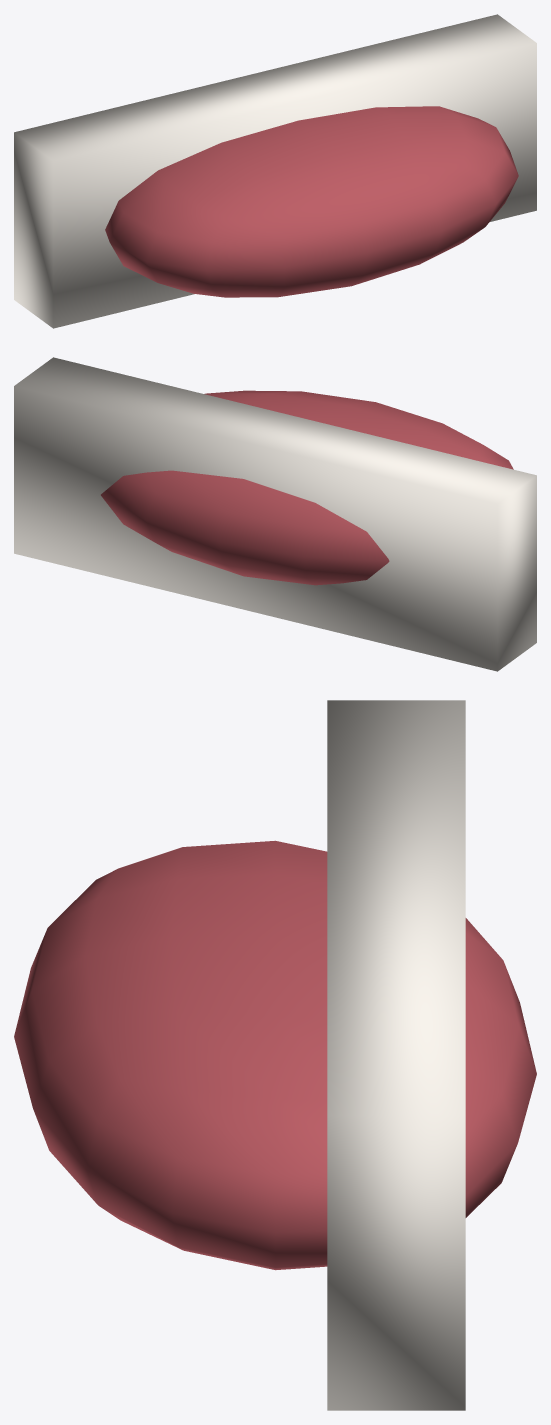
File: beef_raw.glb
3 renders of one model, top to bottom at view 1: azimuth 30°, elevation 25°; view 2: azimuth 150°, elevation 25°; view 3: azimuth 270°, elevation 25°, orthographic. The views are drawn at different scales.
Parts seen in each view (by area): view 1: Beef_Raw_Cut, Beef_Fat_Marbling; view 2: Beef_Fat_Marbling, Beef_Raw_Cut; view 3: Beef_Raw_Cut, Beef_Fat_Marbling.
Part boxes in pixels (x1=…): Beef_Raw_Cut: x1=105, y1=106, x2=518, y2=297; Beef_Fat_Marbling: x1=14, y1=14, x2=536, y2=328; Beef_Fat_Marbling: x1=14, y1=357, x2=536, y2=671; Beef_Raw_Cut: x1=101, y1=390, x2=513, y2=585; Beef_Raw_Cut: x1=14, y1=840, x2=536, y2=1270; Beef_Fat_Marbling: x1=327, y1=700, x2=465, y2=1410.
Size of the model in its own units: 0.142 by 0.047 by 0.0756.
